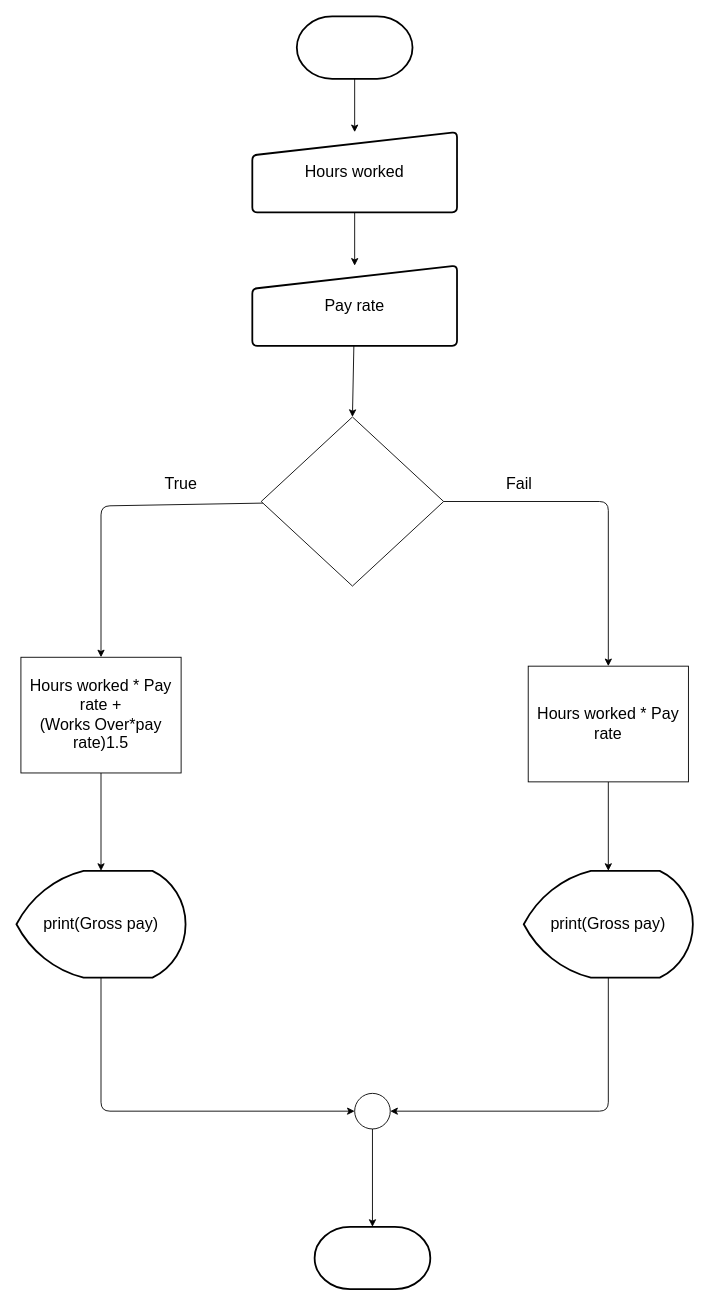
Image size: 708x1305. Some labels were removed from this diagram. The shapes that lost their labels are listed below. From the top down, each one's centre as x and y in pixels, then its label:
the point at 354,47: Start
the point at 352,501: Hours worked > 40
the point at 372,1258: End
